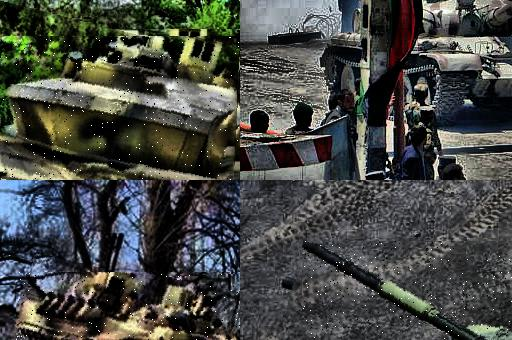tanks: (1, 37, 241, 181), (303, 242, 512, 340), (17, 273, 222, 340), (403, 1, 512, 123), (323, 33, 363, 89)
